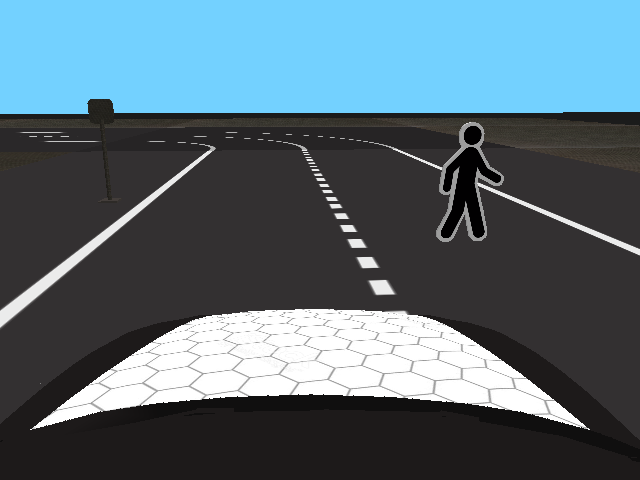pedestrian: (434, 119, 505, 242)
